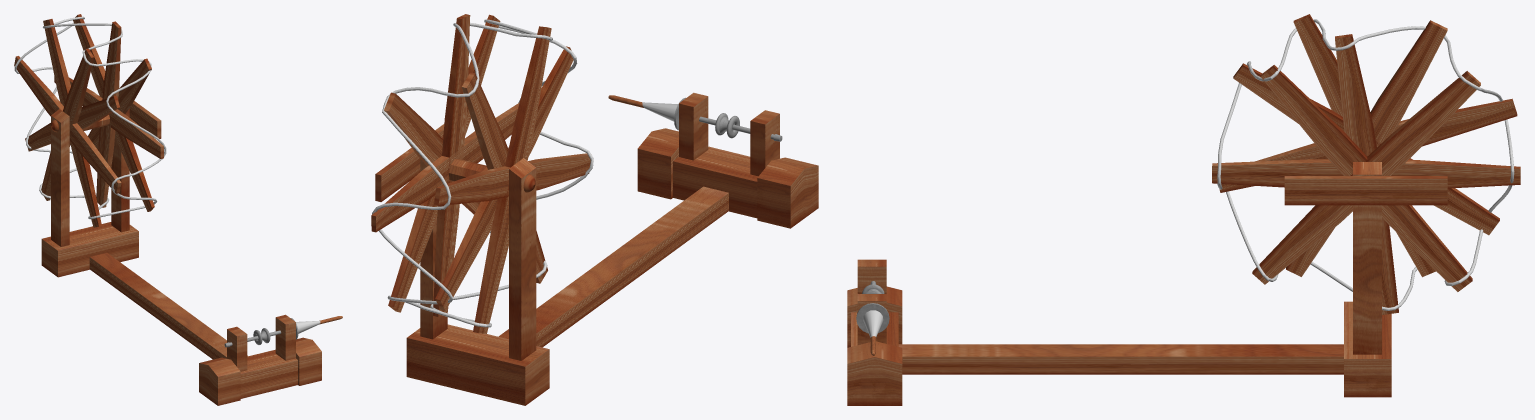
File: Spinning_wheel.fbx
The picture shows the model from 3 angles, left to right: view 1: azimuth 30°, elevation 25°; view 2: azimuth 150°, elevation 25°; view 3: azimuth 270°, elevation 25°; orthographic projection. The views are drawn at different scales.
Parts seen in each view (by area): view 1: pCube19, polySurface53, pCone2; view 2: pCube19, polySurface53, pCone2; view 3: polySurface53, pCube19, pCone2.
Boxes of the visible parts, left/top/right/bottom form: pCube19: left=41, top=108, right=321, bottom=405; polySurface53: left=14, top=14, right=166, bottom=227; pCone2: left=224, top=316, right=342, bottom=347; pCube19: left=406, top=92, right=818, bottom=405; polySurface53: left=371, top=14, right=593, bottom=333; pCone2: left=608, top=95, right=782, bottom=141; polySurface53: left=1212, top=14, right=1520, bottom=314; pCube19: left=847, top=162, right=1391, bottom=405; pCone2: left=856, top=281, right=889, bottom=355.
Size of the model in its own units: 7.65 by 13.12 by 23.09.
